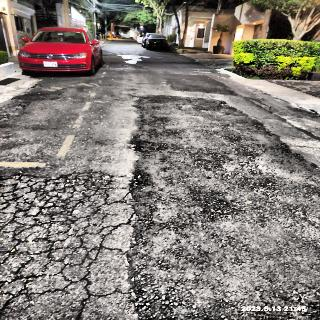alligator-crack: (1, 169, 137, 320), (219, 86, 320, 183)
pothole: (189, 50, 234, 70)
